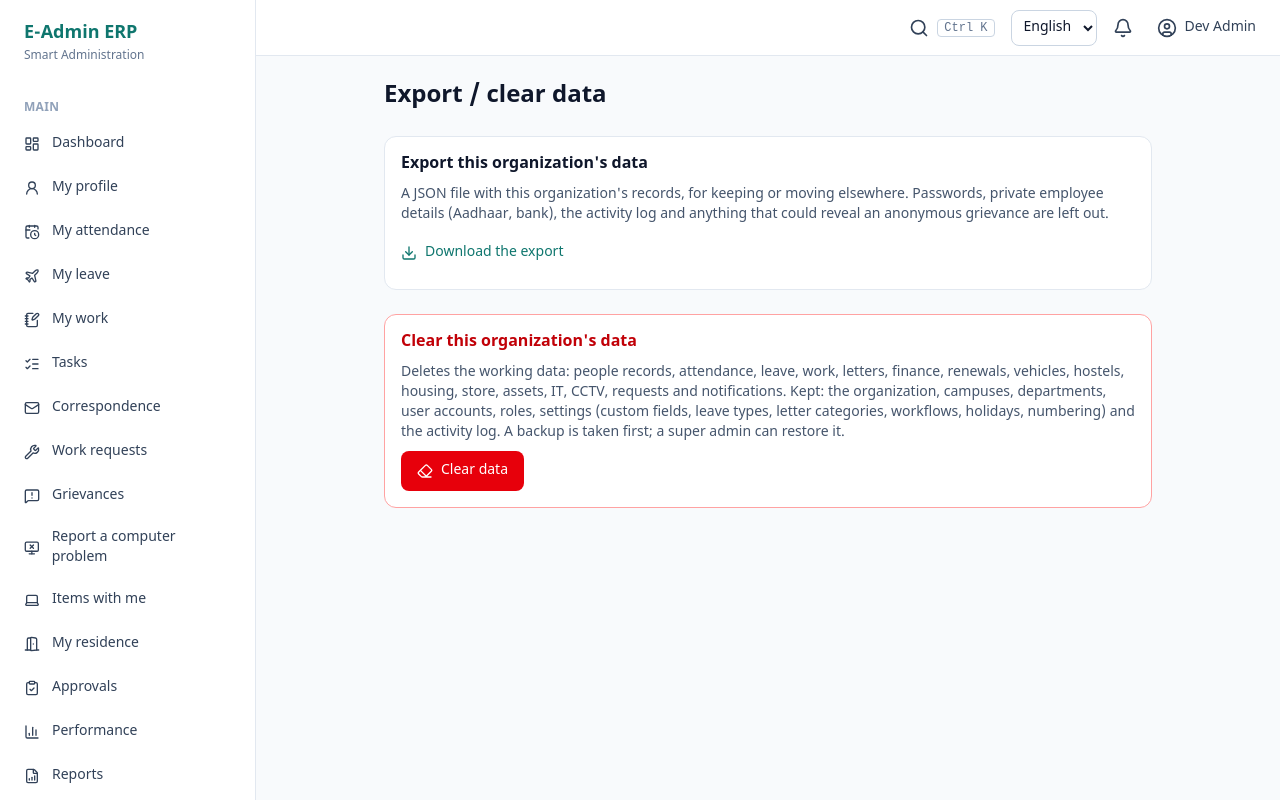
Test case: Backups and clearing data › clearing needs the organization's exact name and shows a wrong password
Click the button "Clear data" at (462, 471), box [401,451,524,491]
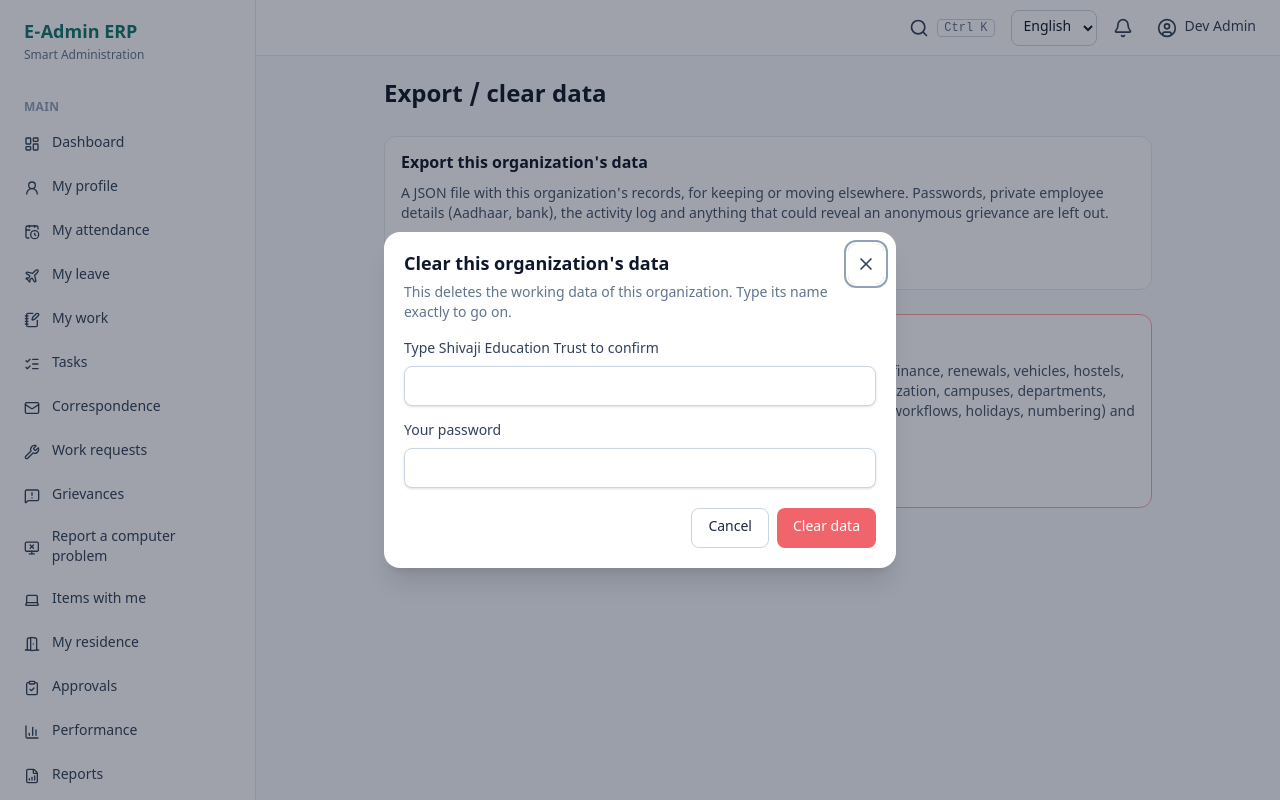
Type "Shivaji Education Trust" into the field labelled "Type Shivaji Education Trust to confirm" at (640, 386), box [404,366,876,406]
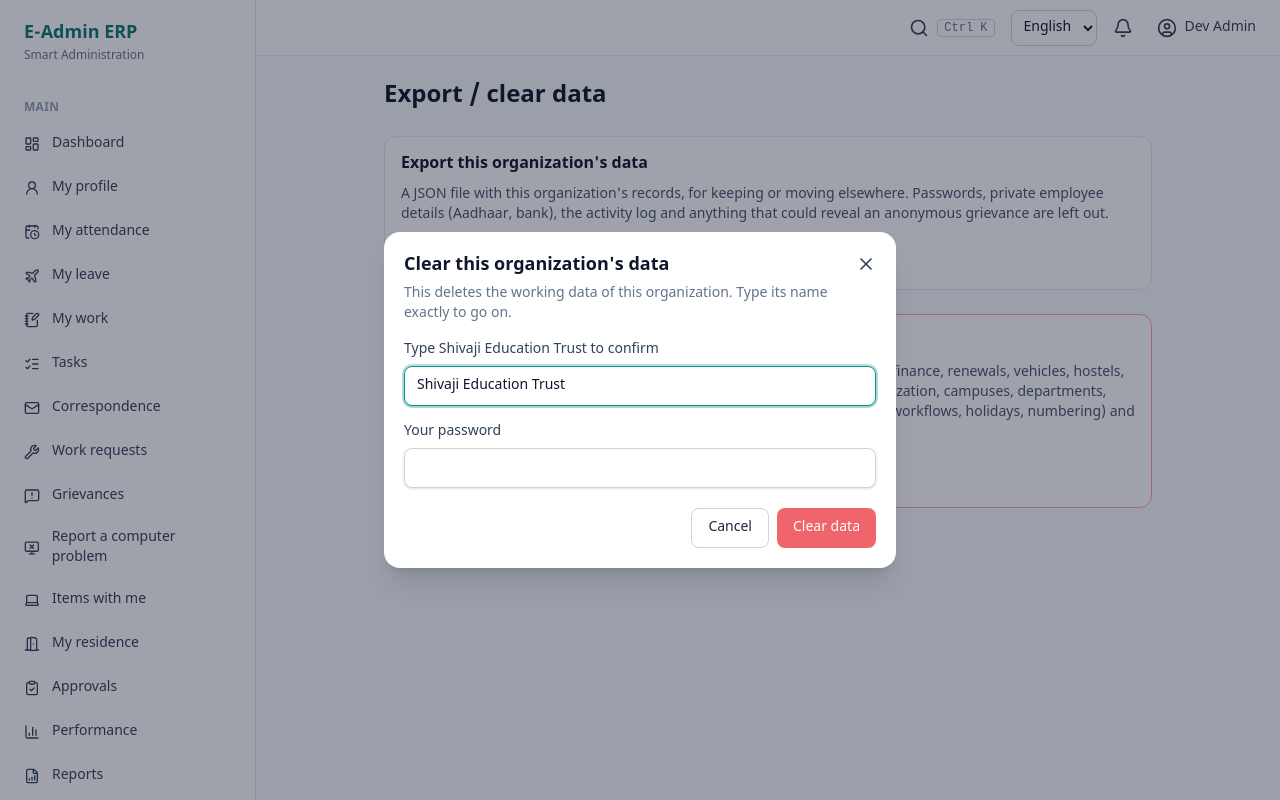
Type "nope" into the password field labelled "Your password" at (640, 468), box [404,448,876,488]
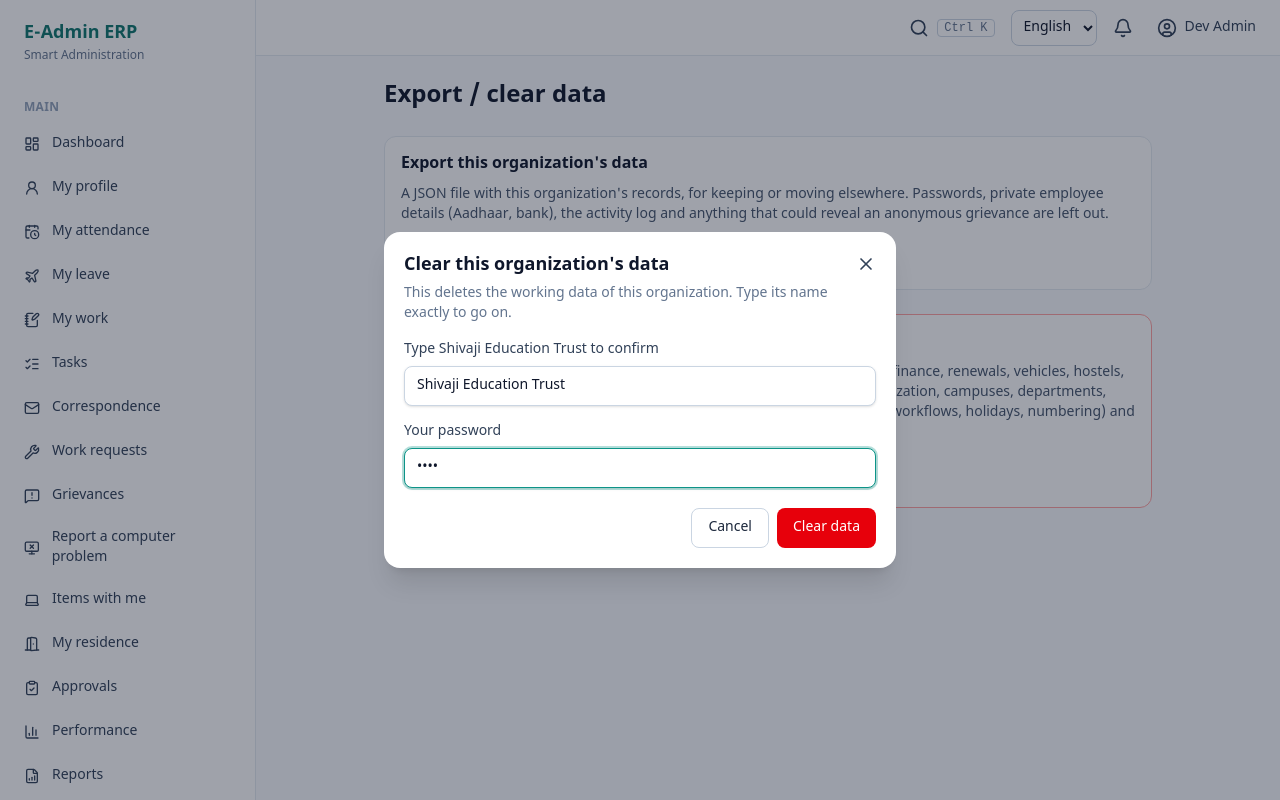
Click the button "Clear data" at (826, 528), box [777,508,876,548]
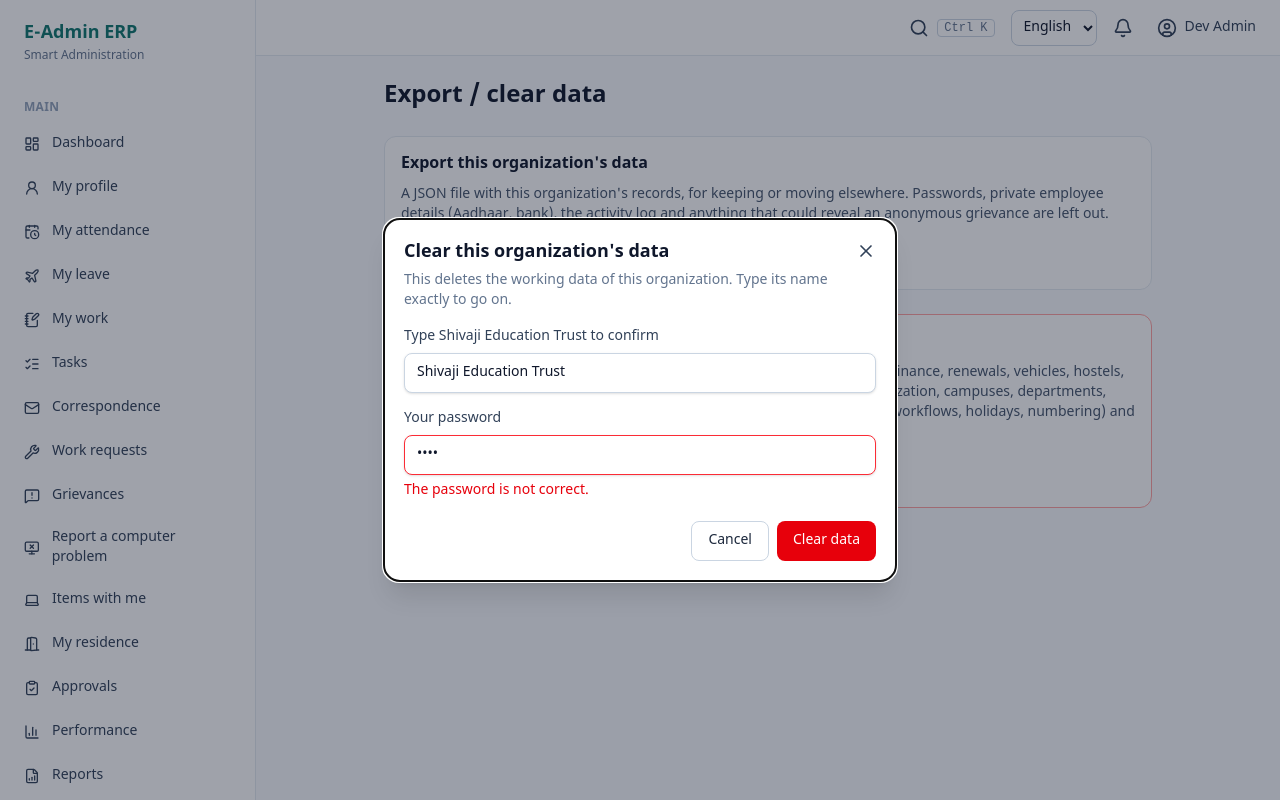
Expected: the text "The password is not correct." is shown, [404,481,589,500]
